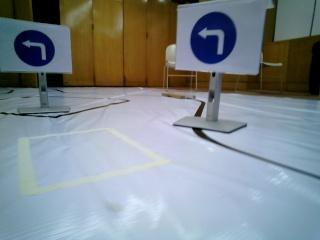left: (179, 5, 260, 73), (15, 20, 63, 69)
